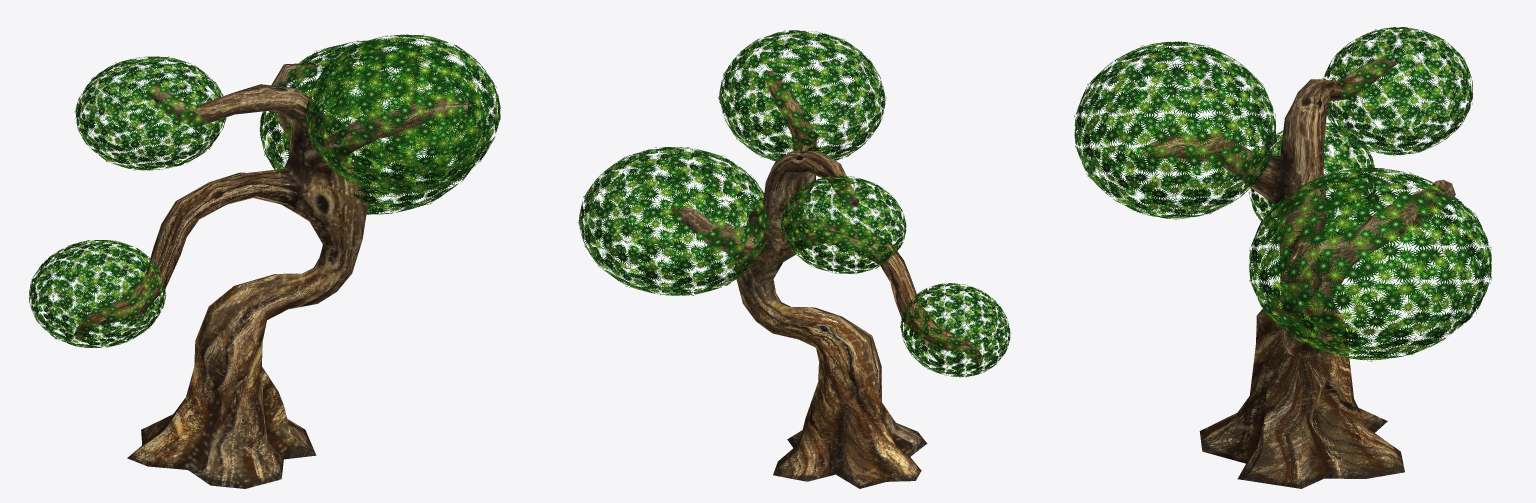
Rendered from RedPine.fbx.
3 views of the same model, side by side, from view 1: azimuth 30°, elevation 25°; view 2: azimuth 150°, elevation 25°; view 3: azimuth 270°, elevation 25° (orthographic). The views are drawn at different scales.
Visible parts, largest first — view 1: RedPIneNeedlesSmall, RedPIneTrunk; view 2: RedPIneNeedlesSmall, RedPIneTrunk; view 3: RedPIneNeedlesSmall, RedPIneTrunk.
Boxes of the visible parts, x1,y1,x2,y2 form: RedPIneNeedlesSmall: [29, 34, 500, 347]; RedPIneTrunk: [74, 63, 468, 488]; RedPIneNeedlesSmall: [577, 30, 1011, 377]; RedPIneTrunk: [670, 70, 983, 488]; RedPIneNeedlesSmall: [1074, 27, 1491, 361]; RedPIneTrunk: [1142, 54, 1455, 488].
Size of the model in its own units: 765 by 641 by 574.
3 materials, 3 textured.
